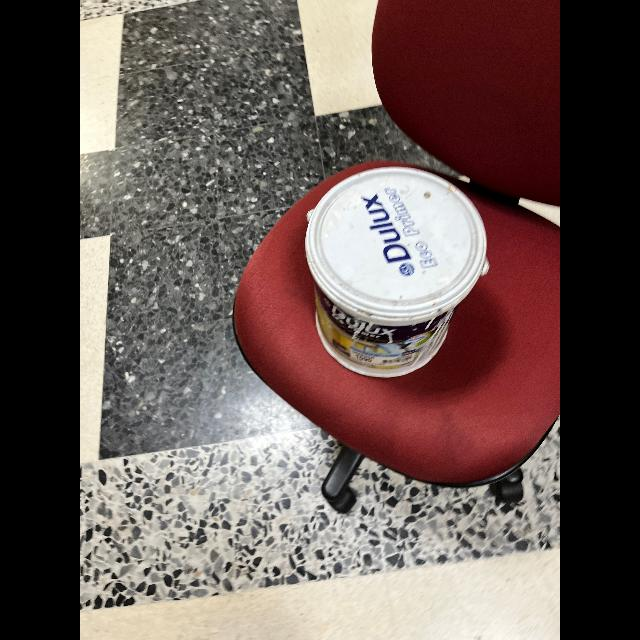paint_bucket: (302, 157, 494, 380)
